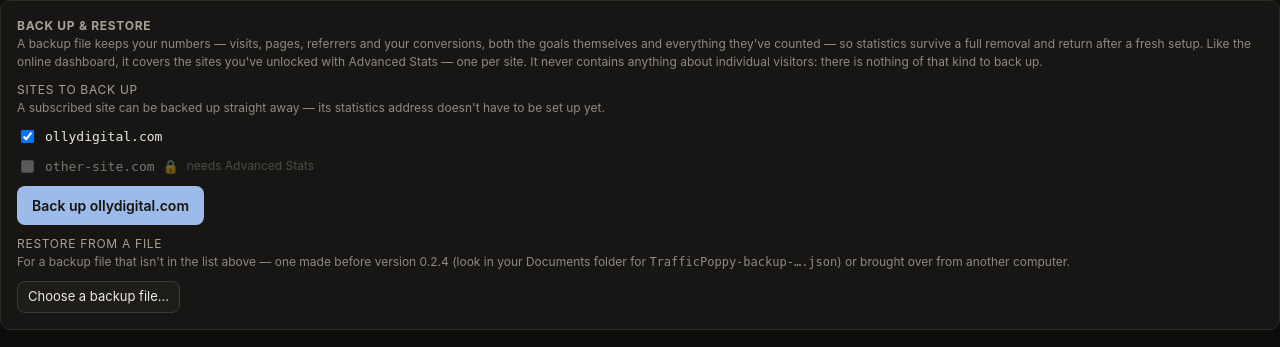
Back up & restore › untick everything and there is nothing to back up — the button disables
Click the checkbox labelled "ollydigital.com" at {"x": 28, "y": 137}, box [21,130,34,143]
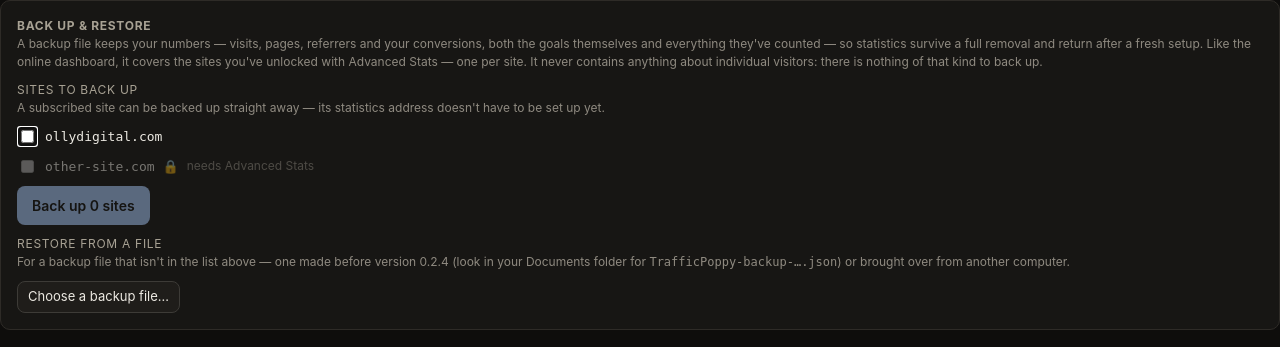
Result: the button "Back up 0 sites" is disabled at [17,186,150,225]
